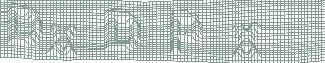D: (101, 7, 143, 54), (5, 2, 44, 47)
P: (168, 8, 203, 57)
x: (230, 20, 263, 60), (47, 22, 80, 58)
